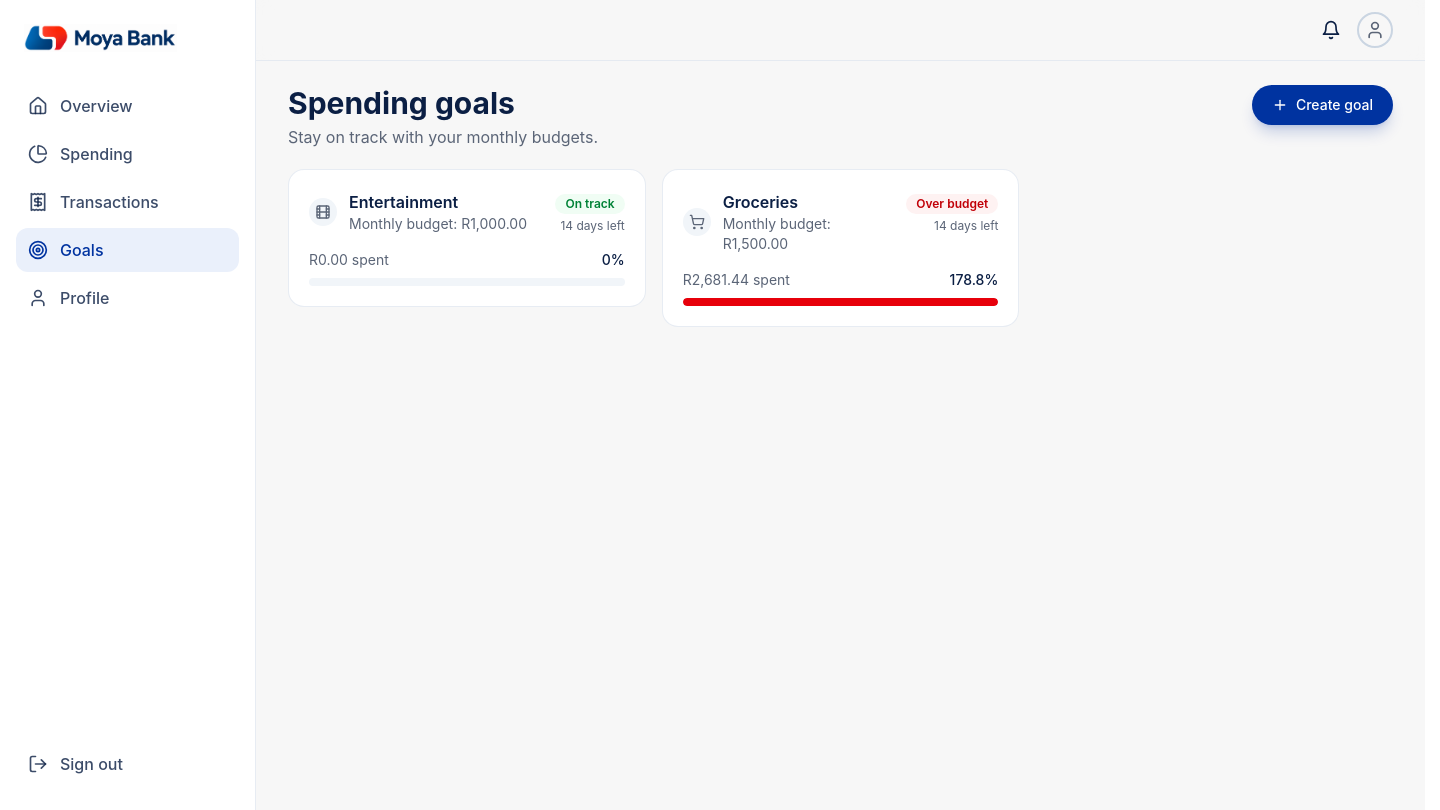
Goals page › confirms delete over the drawer, then closes both
Click the button "Entertainment". click: (404, 202)
box: [349, 190, 458, 214]
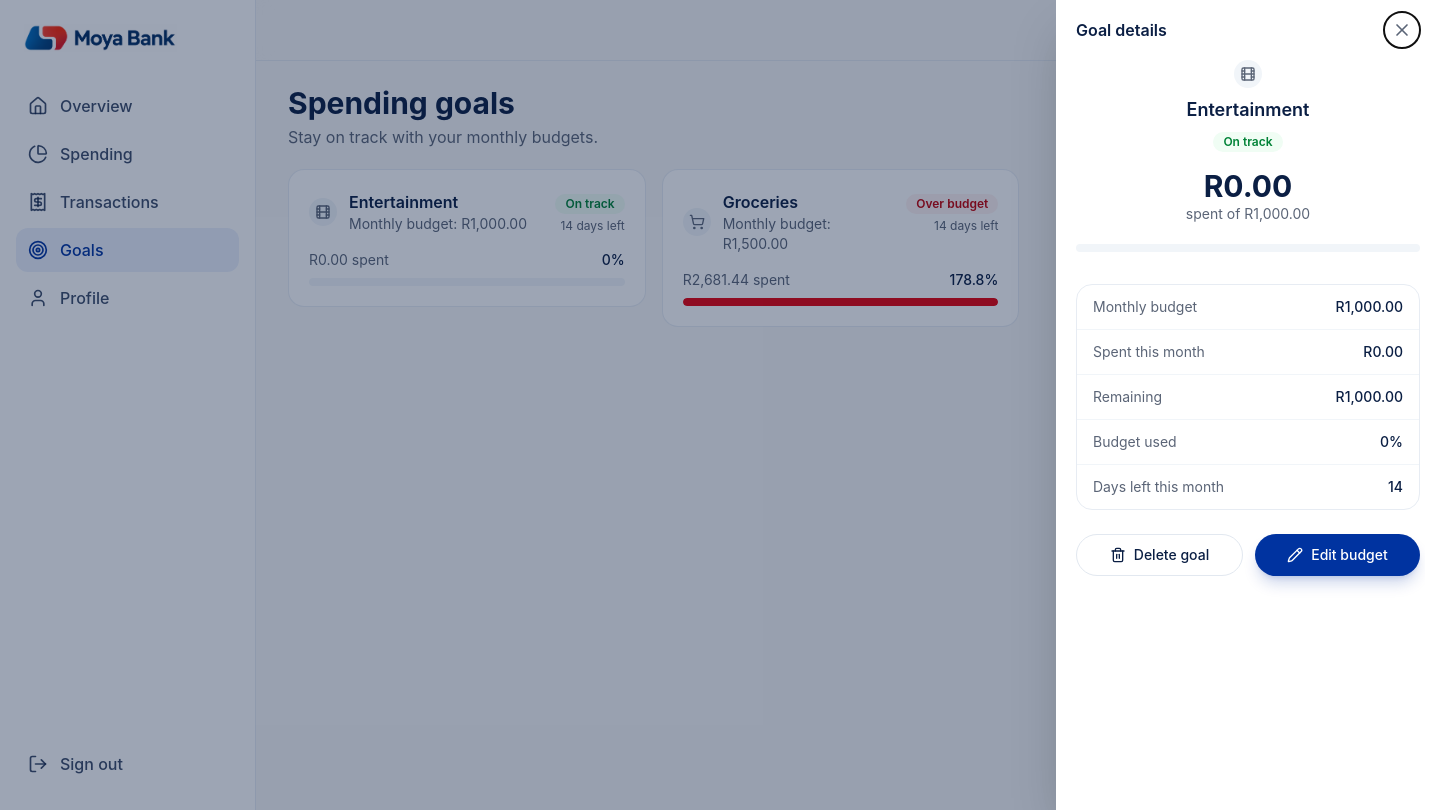
Click the button "Delete goal". click: (1160, 555)
box: [1076, 534, 1243, 576]
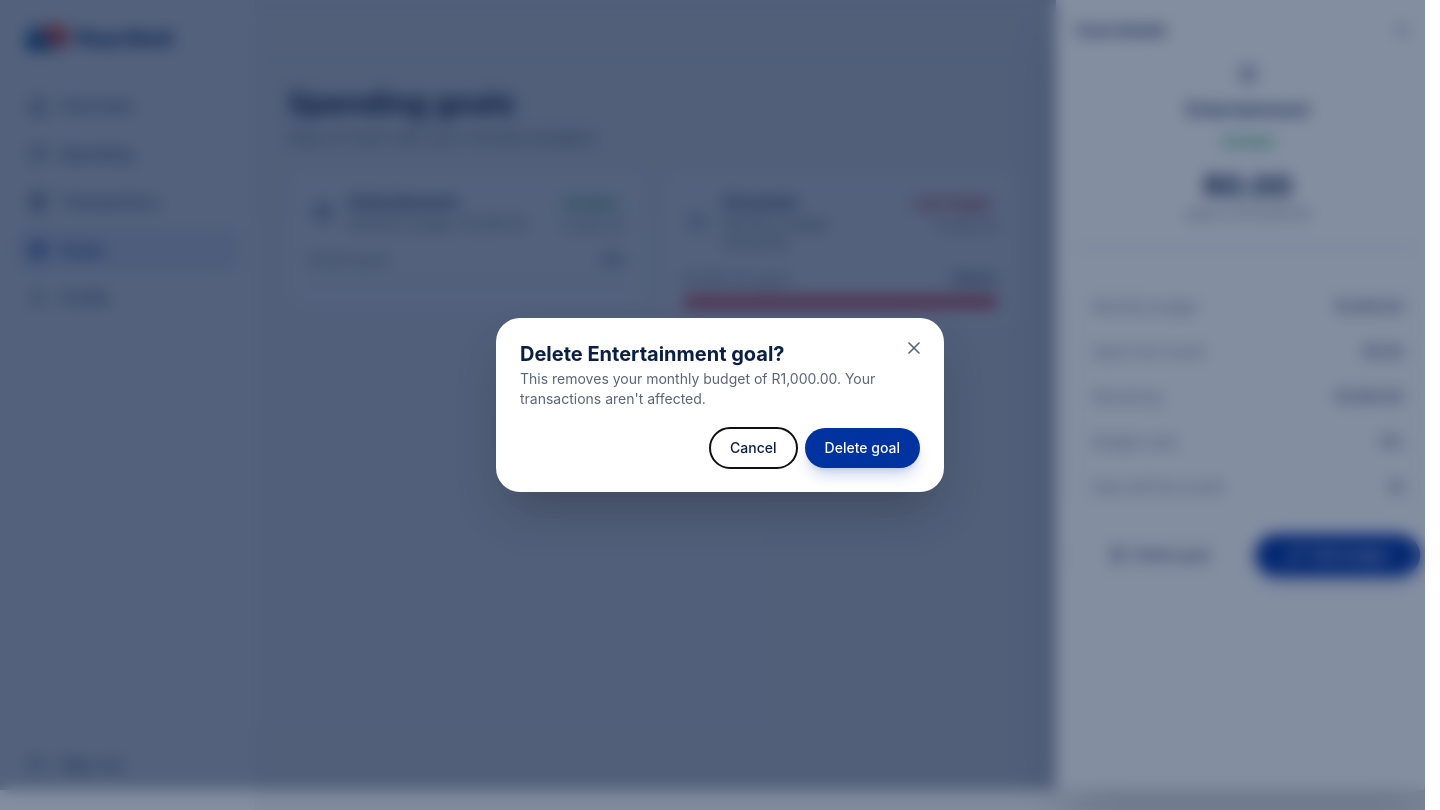
Check: the dialog "Goal details" is shown, box [1056, 0, 1439, 790]
Click the button "Delete goal". click: (862, 448)
box: [805, 428, 920, 468]
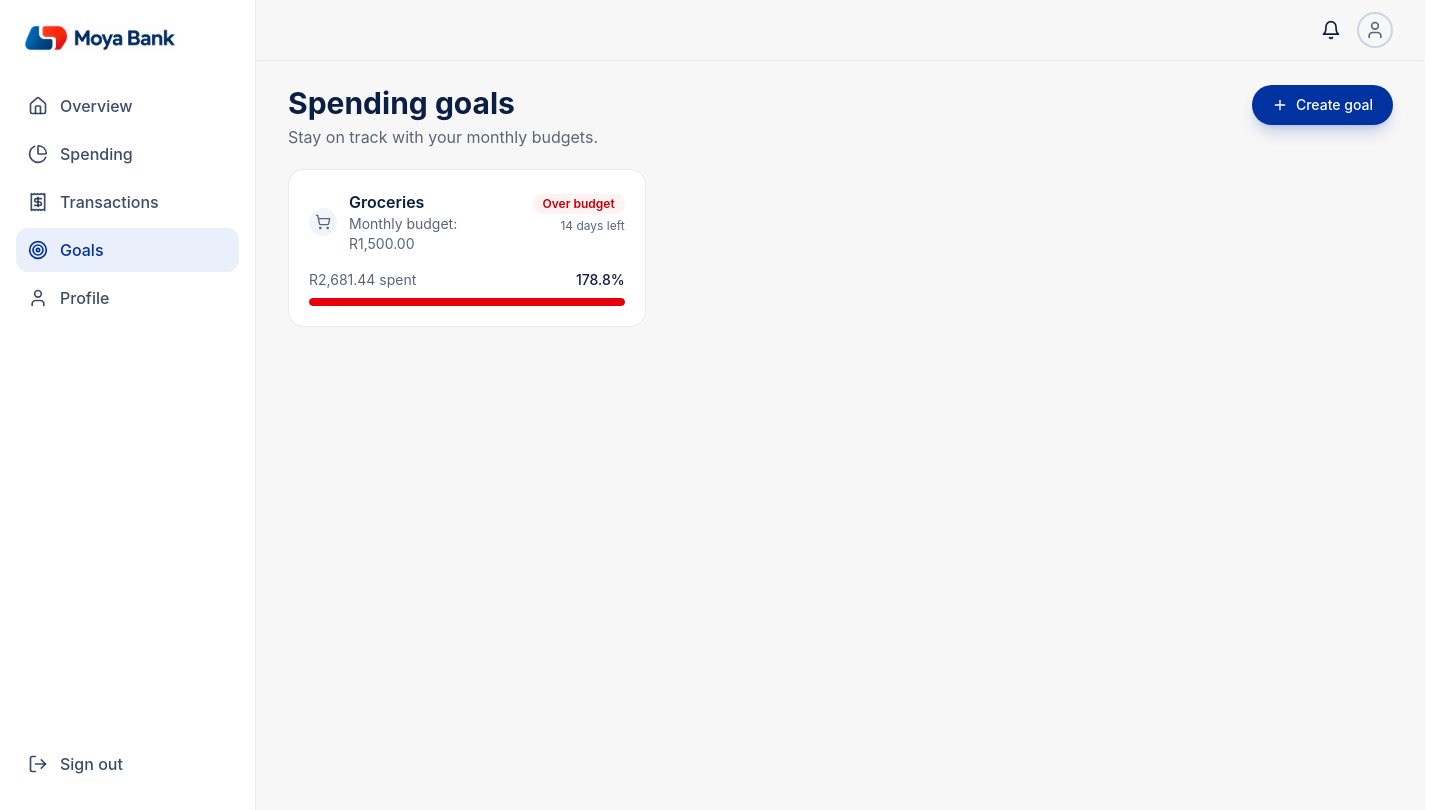
Check: the element "Groceries" is shown, box [288, 169, 646, 327]
Check: the dialog is gone
Check: the button "Entertainment" is gone
